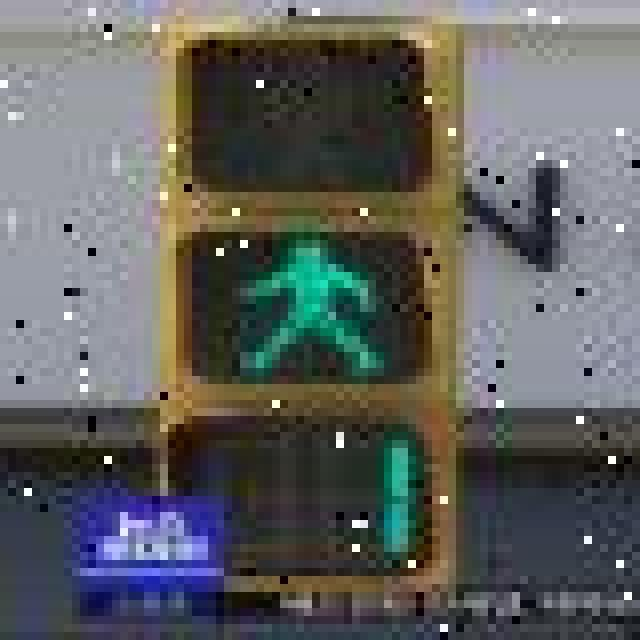greenlight: (136, 8, 472, 424)
